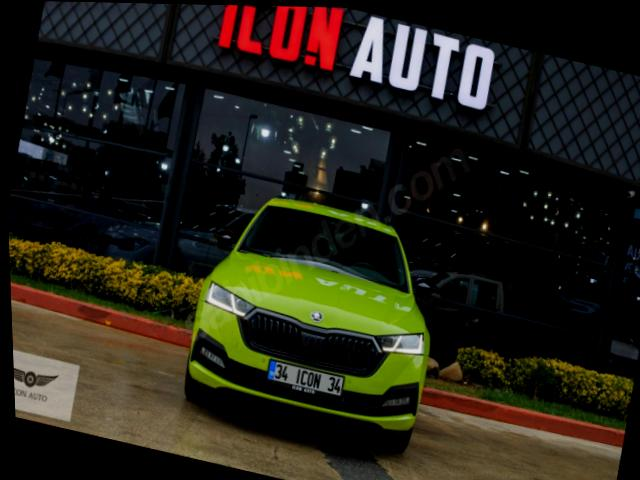plaka: (266, 360, 343, 397)
